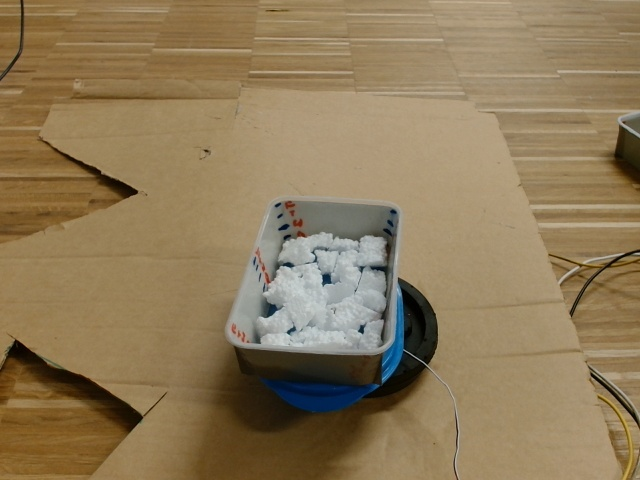Small_quarter: (231, 198, 399, 360)
